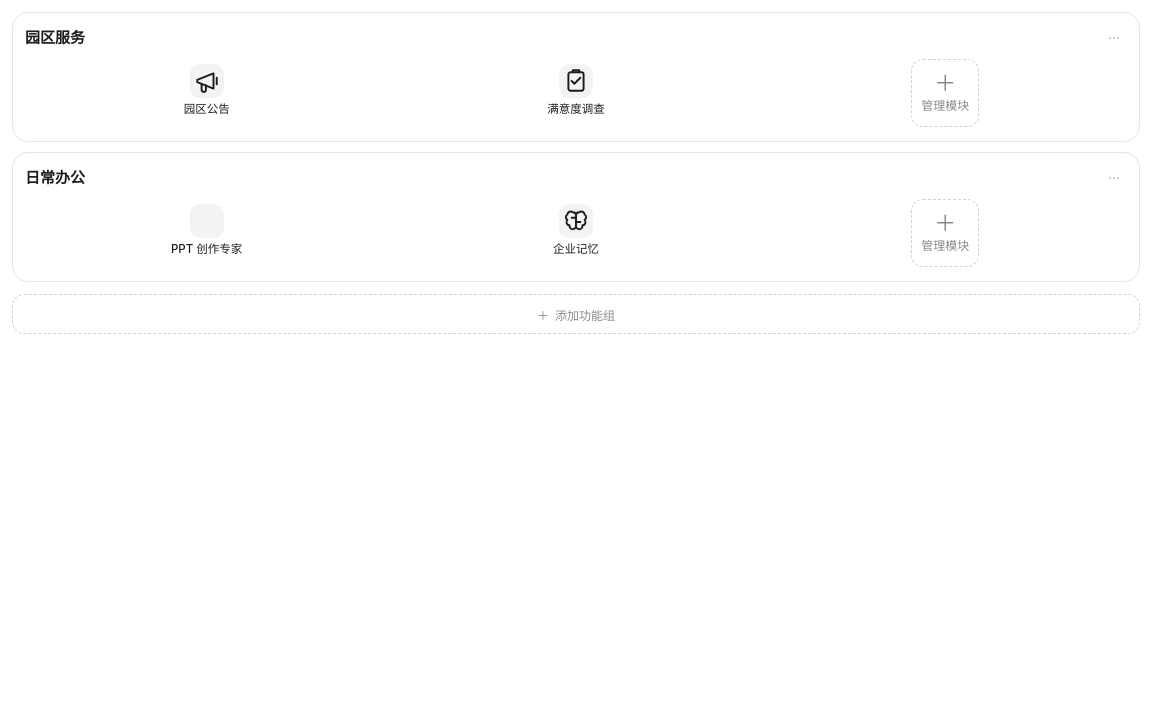
Test case: ModuleWorkspace › dismisses a group menu on outside click and Escape
The width and height of the screenshot is (1152, 720).
Click the button named "功能组菜单：园区服务": (1114, 38) [1101,25,1127,51]
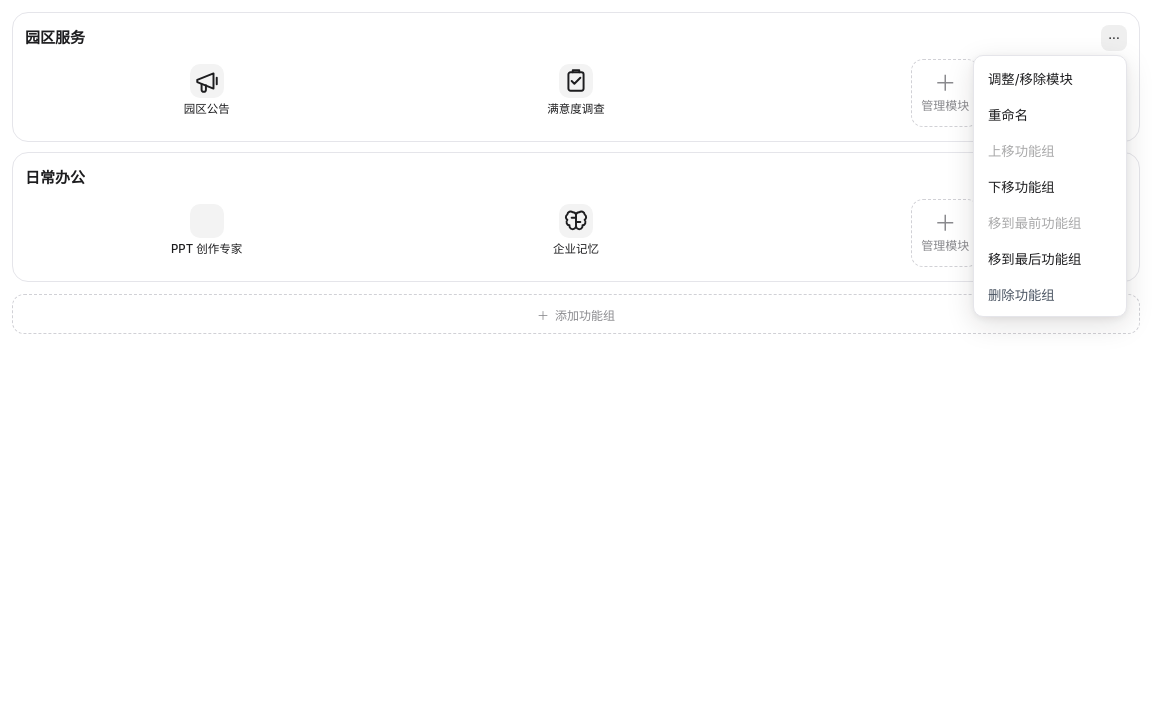
Check: the menu named "园区服务设置" is shown, box [973,55,1127,317]
Press the mouse on the element that starts with "园区服务": (576, 360) [0,0,1151,719]
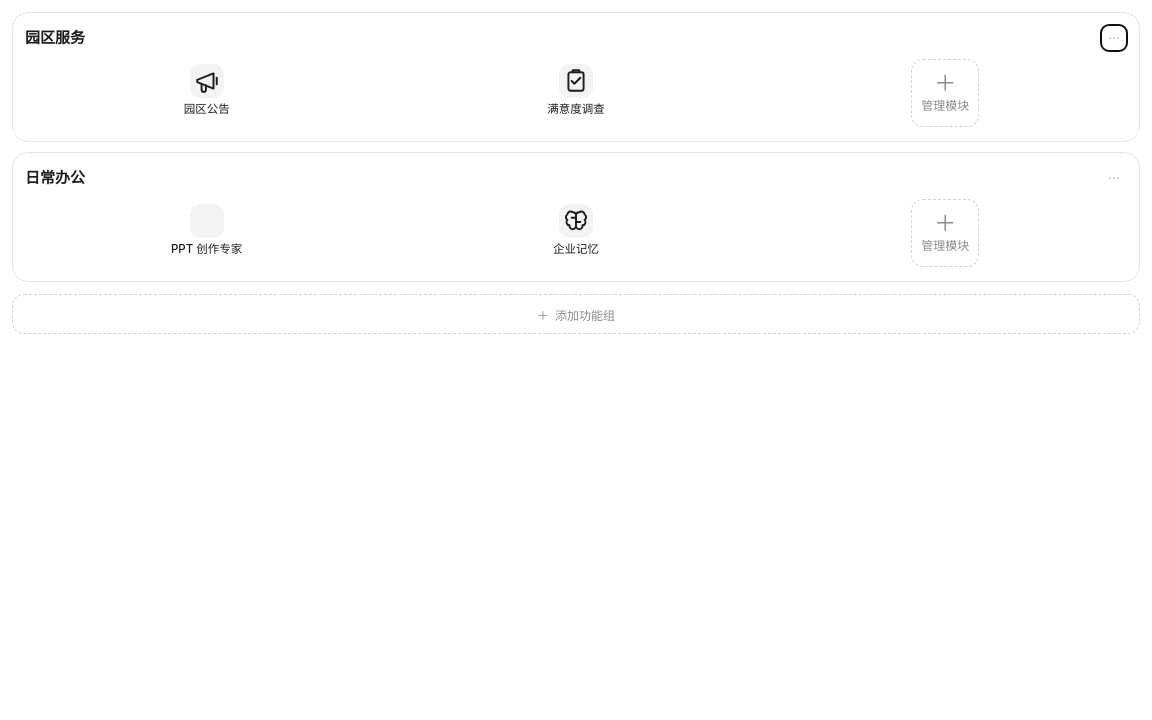
Check: the menu "园区服务设置" is gone
Click the button named "功能组菜单：园区服务": (1114, 38) [1101,25,1127,51]
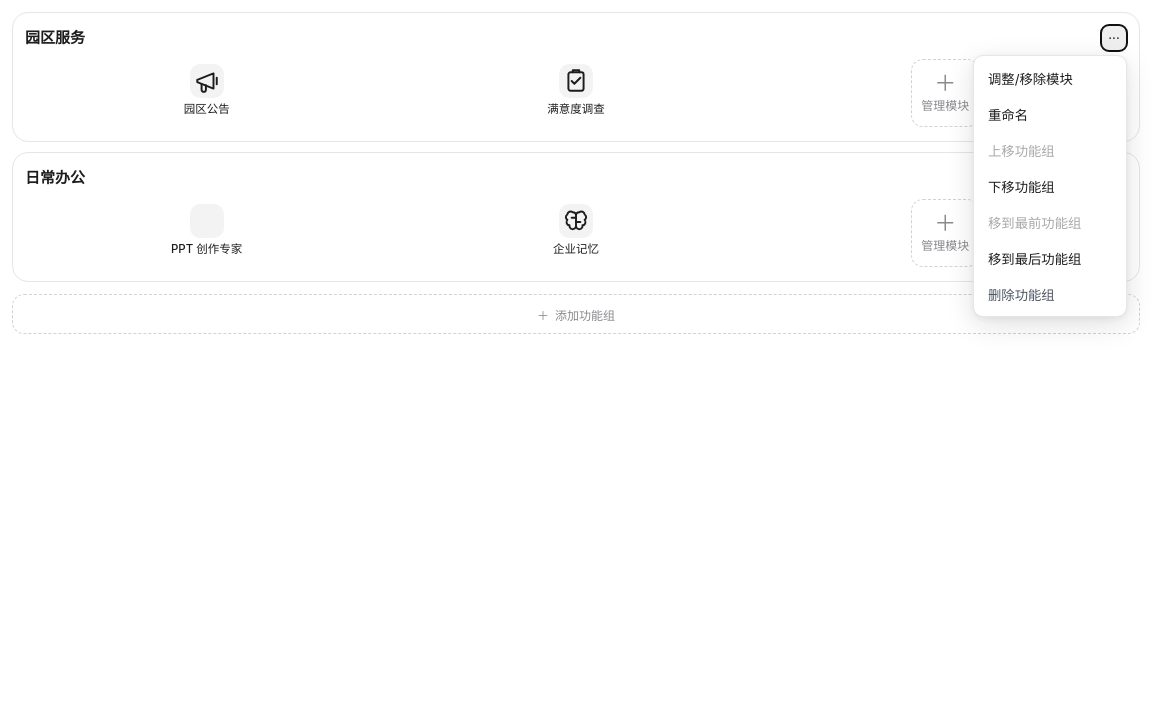
Press Escape
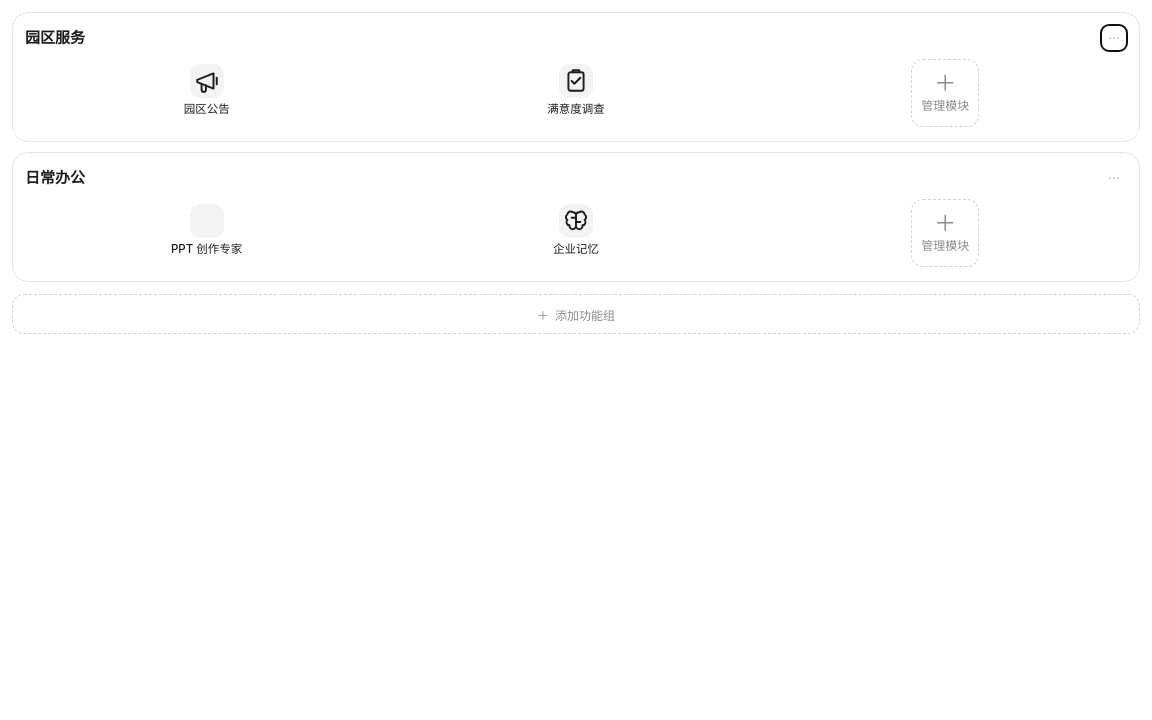
Check: the menu "园区服务设置" is gone
